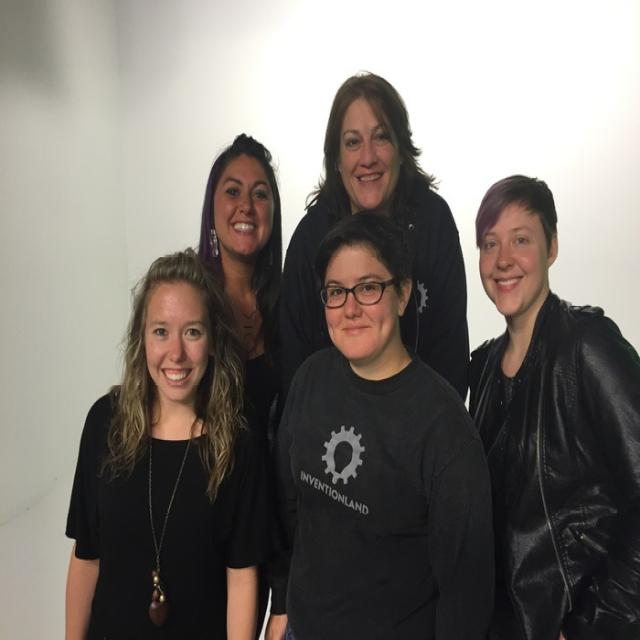body: (245, 205, 505, 639), (453, 160, 639, 638), (61, 245, 272, 640), (274, 65, 473, 413), (186, 128, 286, 500)
